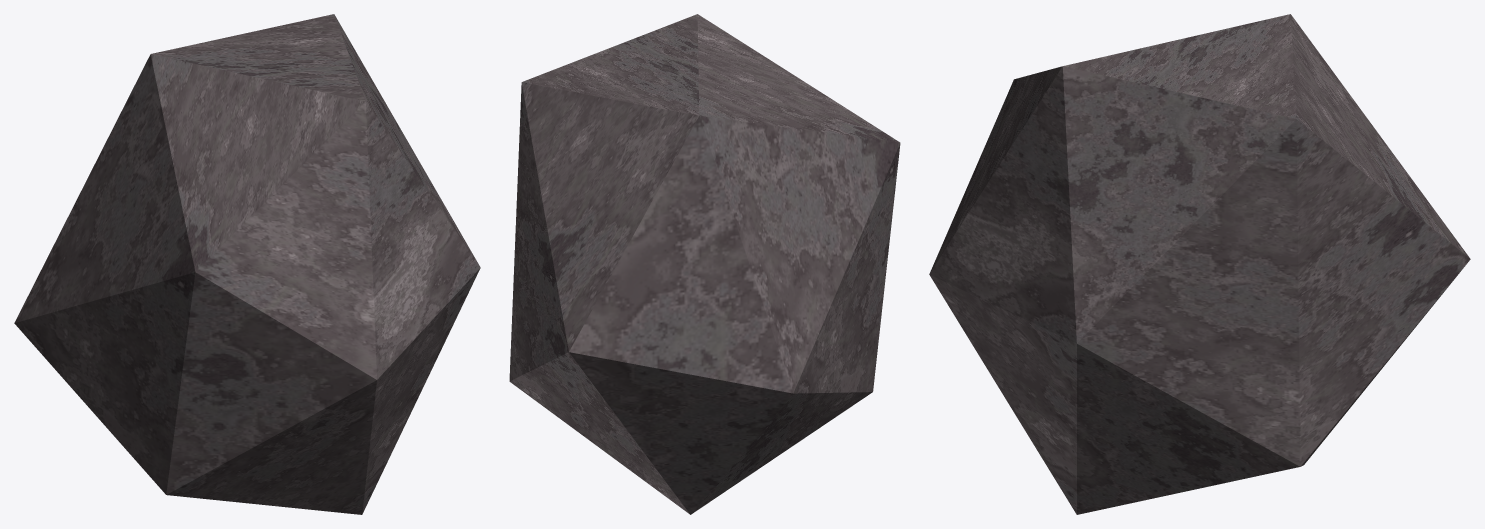
Rendered from Asteroid.fbx.
3 renders of one model, left to right at view 1: azimuth 30°, elevation 25°; view 2: azimuth 150°, elevation 25°; view 3: azimuth 270°, elevation 25°, orthographic. The views are drawn at different scales.
Visible parts, largest first — view 1: pPlatonic1; view 2: pPlatonic1; view 3: pPlatonic1.
Boxes of the visible parts, bbox=[...] form: pPlatonic1: bbox=[14, 14, 480, 514]; pPlatonic1: bbox=[509, 14, 900, 514]; pPlatonic1: bbox=[929, 14, 1470, 514].
Bounding box in the file's own units: 2.26 × 2.63 × 2.85.
